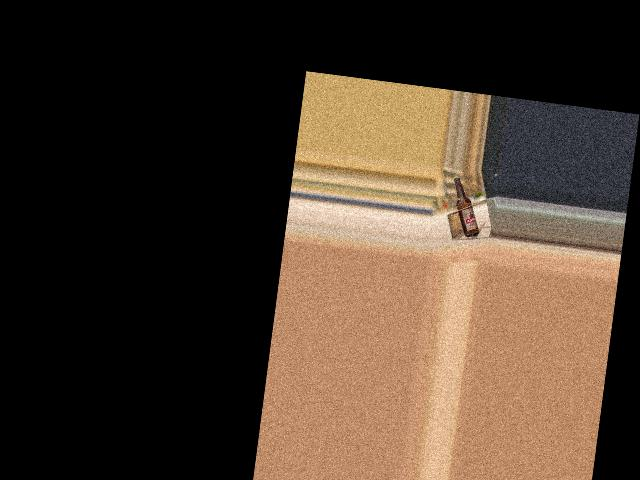beer: (446, 175, 486, 238)
